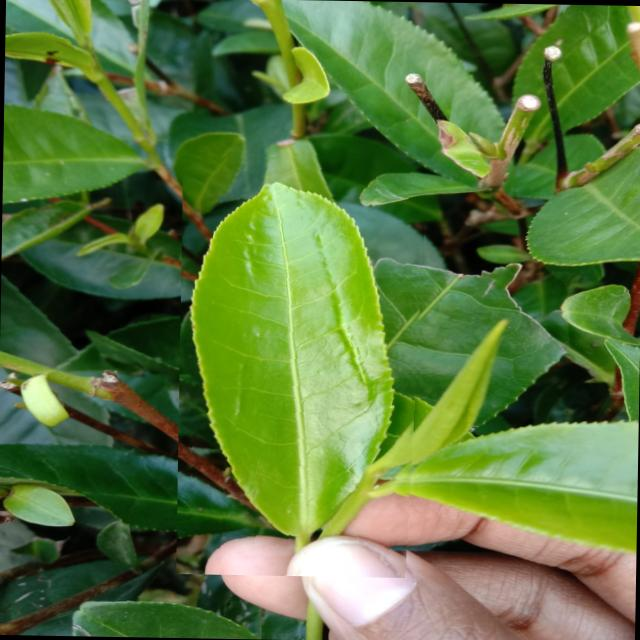Category C 4-7 days: (175, 150, 428, 578)
